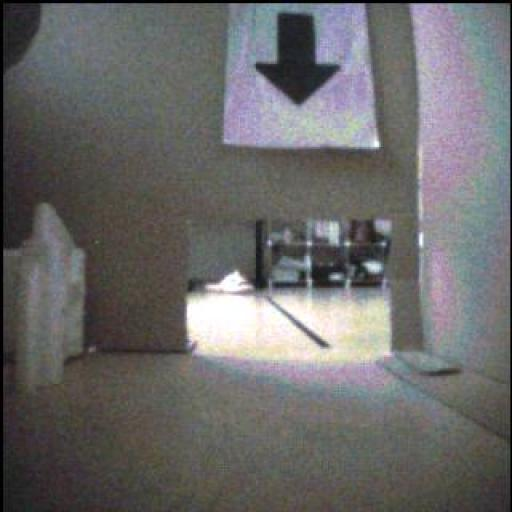arrow: (257, 14, 340, 105)
